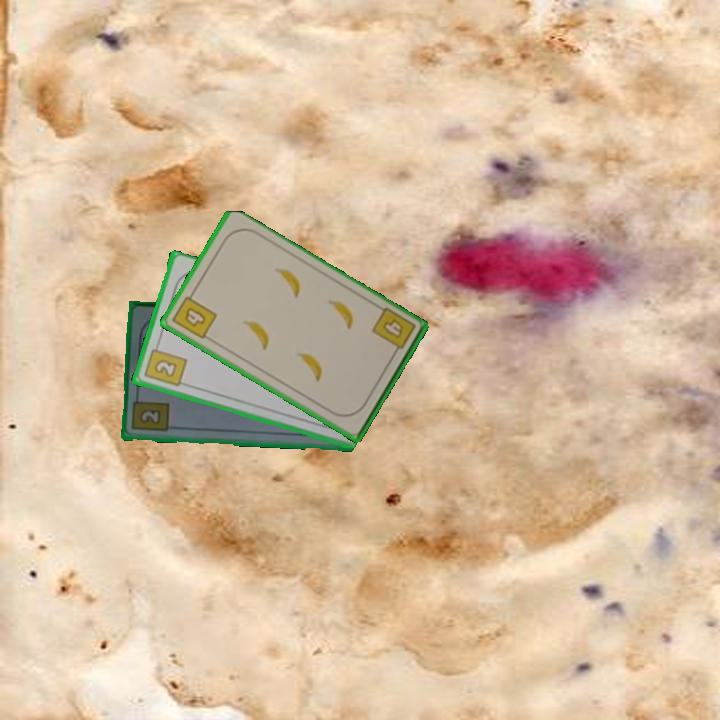2b: (140, 340, 189, 390), (128, 392, 171, 434)
4b: (168, 288, 220, 342), (368, 304, 419, 359)
